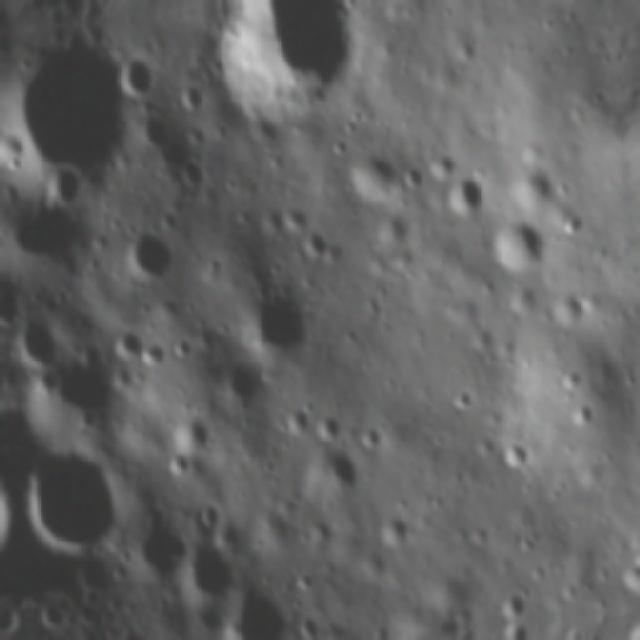crater: (0, 18, 151, 202), (208, 0, 367, 125), (18, 442, 133, 563), (3, 182, 89, 278), (238, 283, 316, 365), (214, 581, 297, 640), (130, 508, 192, 586), (120, 221, 183, 297), (177, 538, 240, 607), (484, 215, 553, 278), (340, 148, 405, 208), (10, 312, 68, 374), (209, 358, 269, 417), (310, 446, 364, 500), (39, 160, 90, 215), (113, 49, 162, 105), (438, 173, 485, 224), (129, 103, 177, 151), (168, 409, 215, 454), (274, 393, 314, 442), (272, 196, 314, 242), (108, 324, 148, 364), (375, 508, 413, 550), (177, 151, 214, 194), (498, 435, 537, 474), (298, 230, 334, 272), (0, 125, 29, 173), (312, 410, 346, 448), (495, 589, 533, 623), (174, 73, 206, 113), (397, 157, 429, 195), (617, 556, 640, 598), (166, 448, 194, 478)
